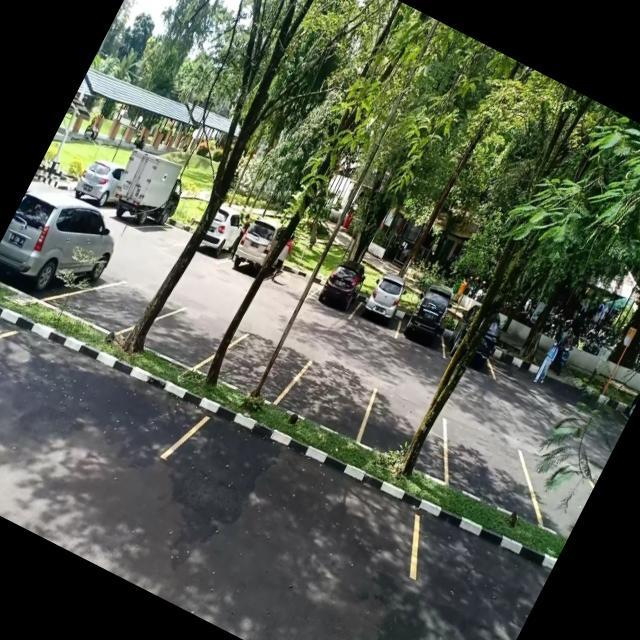empty: (167, 398, 441, 586), (0, 302, 206, 467), (434, 408, 559, 524), (352, 369, 469, 484), (274, 342, 388, 449), (200, 310, 310, 412), (65, 250, 172, 350), (138, 286, 235, 381)
occupied: (0, 186, 122, 320), (352, 274, 418, 340), (306, 260, 372, 324), (394, 296, 456, 361)
